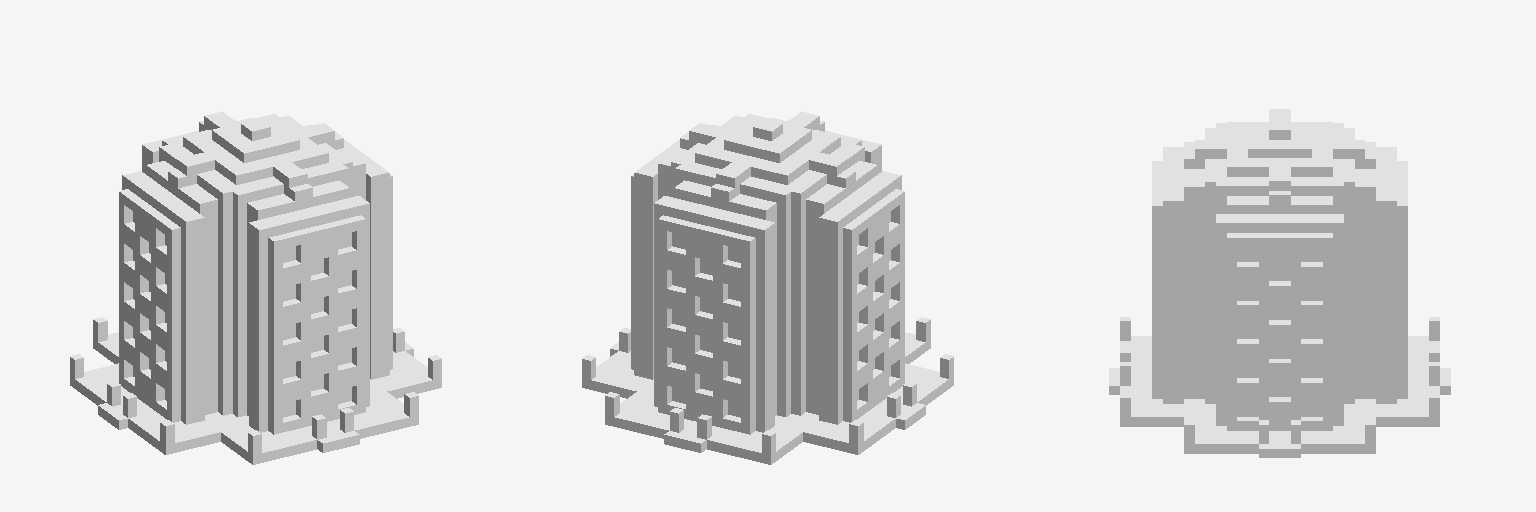
Rendered from office5.obj.
3 views of the same model, side by side, from view 1: azimuth 30°, elevation 25°; view 2: azimuth 150°, elevation 25°; view 3: azimuth 270°, elevation 25° (orthographic).
Visible parts, largest first — view 1: object 1; view 2: object 1; view 3: object 1.
Boxes of the visible parts, <box> form: object 1: <box>70,111,441,464</box>; object 1: <box>582,111,953,464</box>; object 1: <box>1109,109,1450,457</box>.
Size of the model in its own units: 3.2 by 2.7 by 3.2.